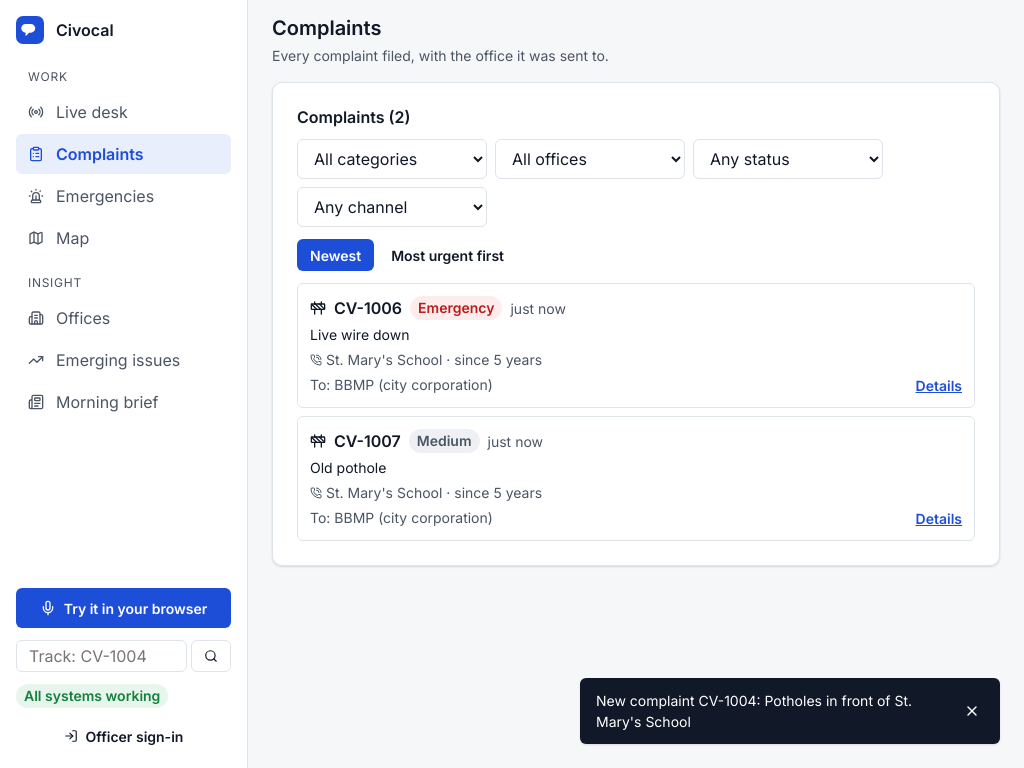
Test: most urgent first shows the server's order untouched, with the working behind it
Expected: the text "Old pothole" is shown, [310,457,386,478]
Expected: the text "Why here" is not shown
Click the button "Most urgent first" at (448, 255), box [378,239,517,271]
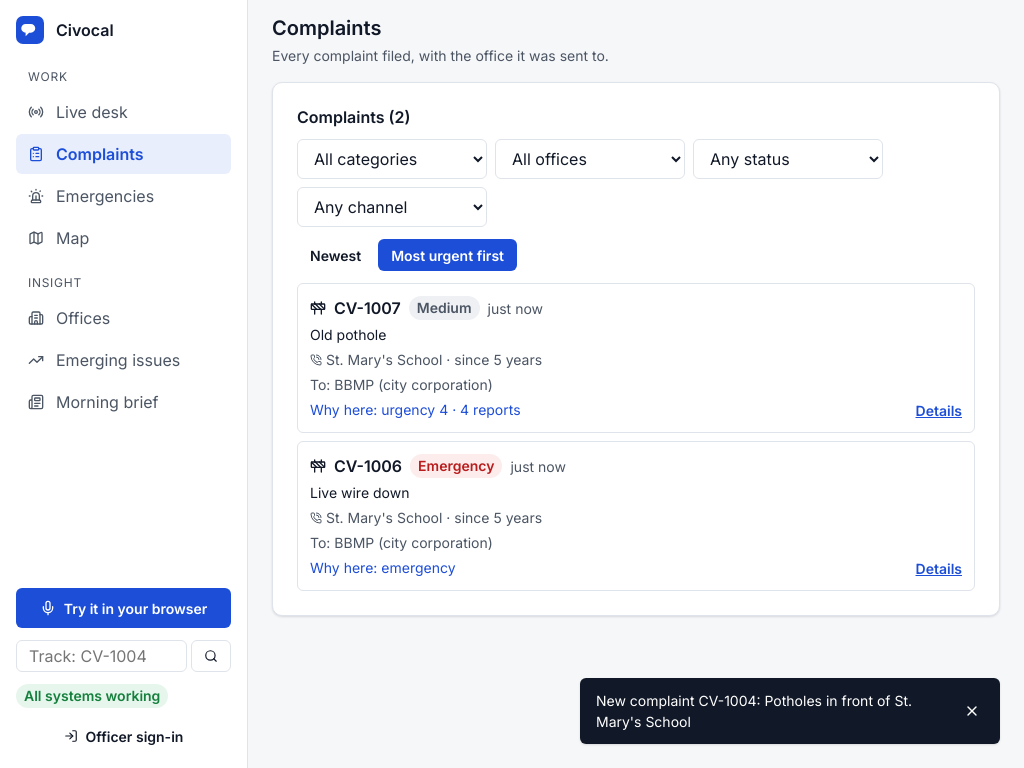
Now the text "Why here: urgency 4 · 4 reports" is shown, box [310,401,521,418]
Now the button "CV-100" shows "Old pothole", box [298,284,974,432]
Now the button "CV-100" shows "Live wire down", box [298,442,974,590]
